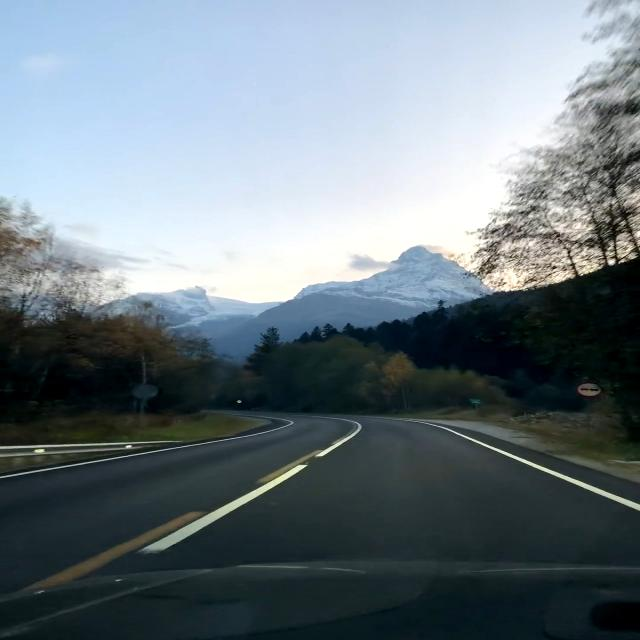lane: (396, 419, 640, 510), (140, 465, 307, 554), (24, 511, 207, 590), (256, 450, 321, 485), (316, 436, 351, 458)
road: (3, 413, 637, 640)
